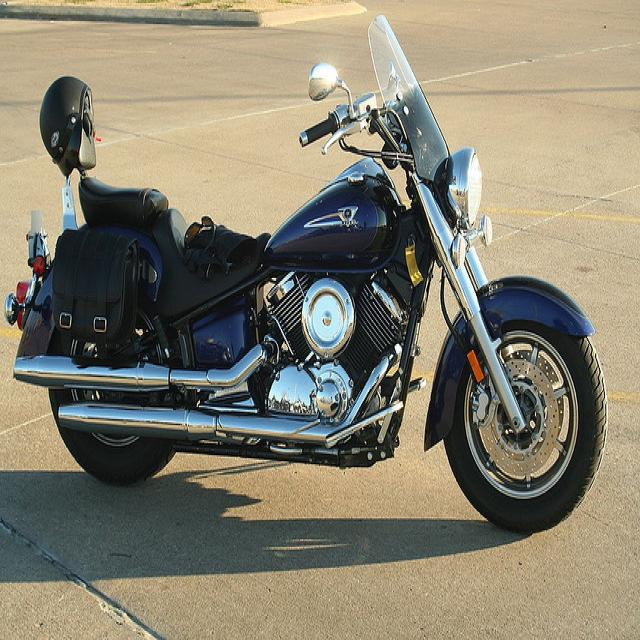motor: (6, 16, 609, 531)
